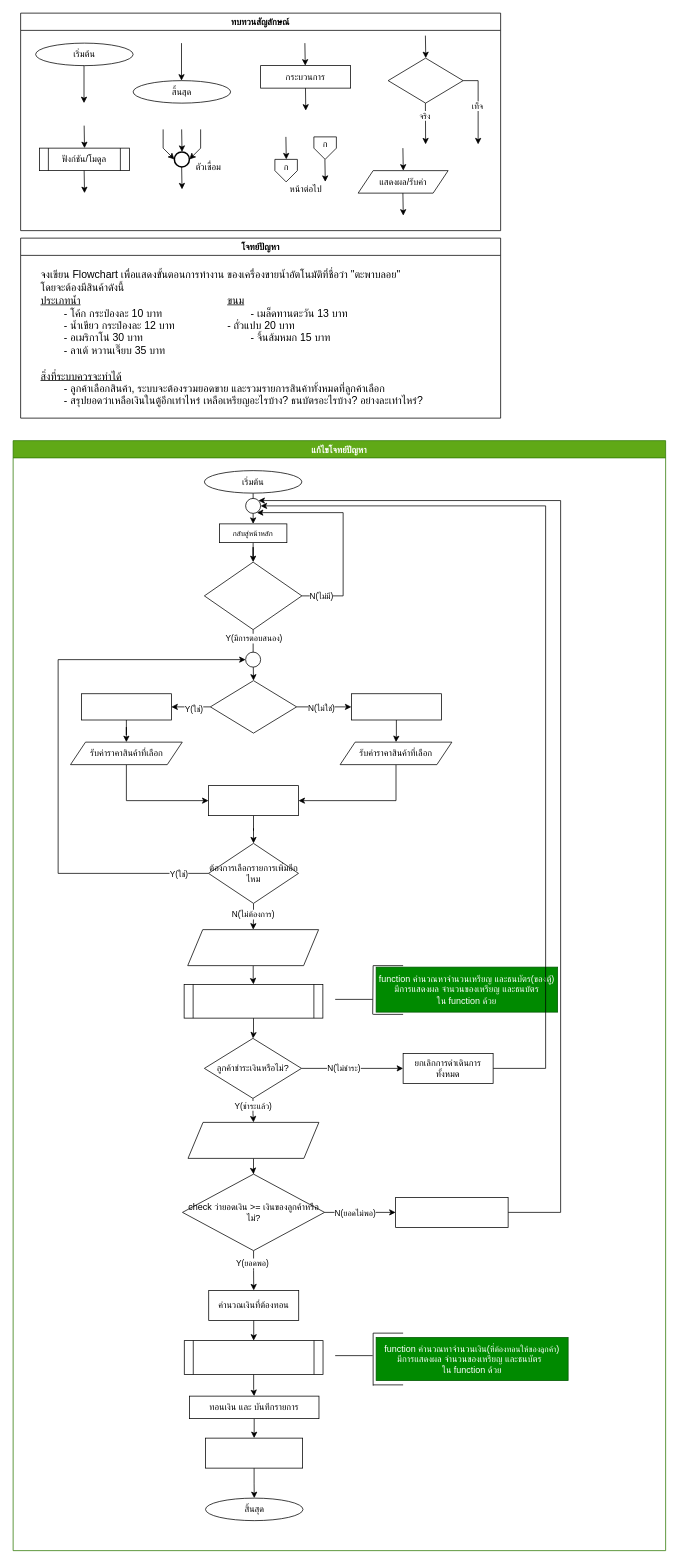
Image size: 679x1564. Some labels were removed from this diagram. The shapes that lost their labels are listed below. From the top down, each one's box as (x1, y1, x2, y2) in pixels, then its label:
(387, 57, 463, 103): ประโยคเงื่อนไข
(204, 561, 302, 630): มีการตอบสนองของลูกค้า(ลูกค้ากดซื้อ)?
(81, 693, 171, 720): แสดงรายการสินค้า ประเภทน้ำ
(210, 680, 297, 733): สินค้าประเภทน้ำ
(351, 693, 441, 720): แสดงรายการสินค้า ประเภทขนม
(208, 785, 298, 816): คำนวณยอดรวมที่สั่งไป
(187, 929, 319, 966): แสดงยอดรวมของราคาสินค้า และ ชื่อรายการ
(183, 984, 323, 1018): แสดงยอด เหรียญ และธนบัตร ( ที่เหลือในตู้)
(187, 1122, 319, 1158): รับค่าเงินของลูกค้า
(395, 1197, 508, 1227): แจ้งให้ลูกค้าทราบ ยกเลิกการดำเดินการทั้งหมด
(184, 1340, 323, 1374): แสดงยอด เหรียญ และธนบัตร (ที่ต้องทอนให้ของลูกค้า )
(205, 1437, 303, 1468): จัดส่งรายการสินค้าตามรายการ
